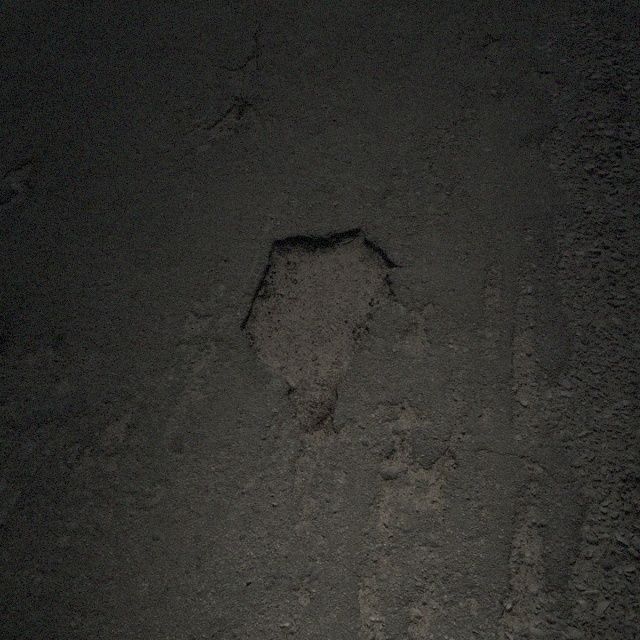pothole: (236, 223, 404, 429), (0, 158, 38, 212), (206, 98, 249, 138)
